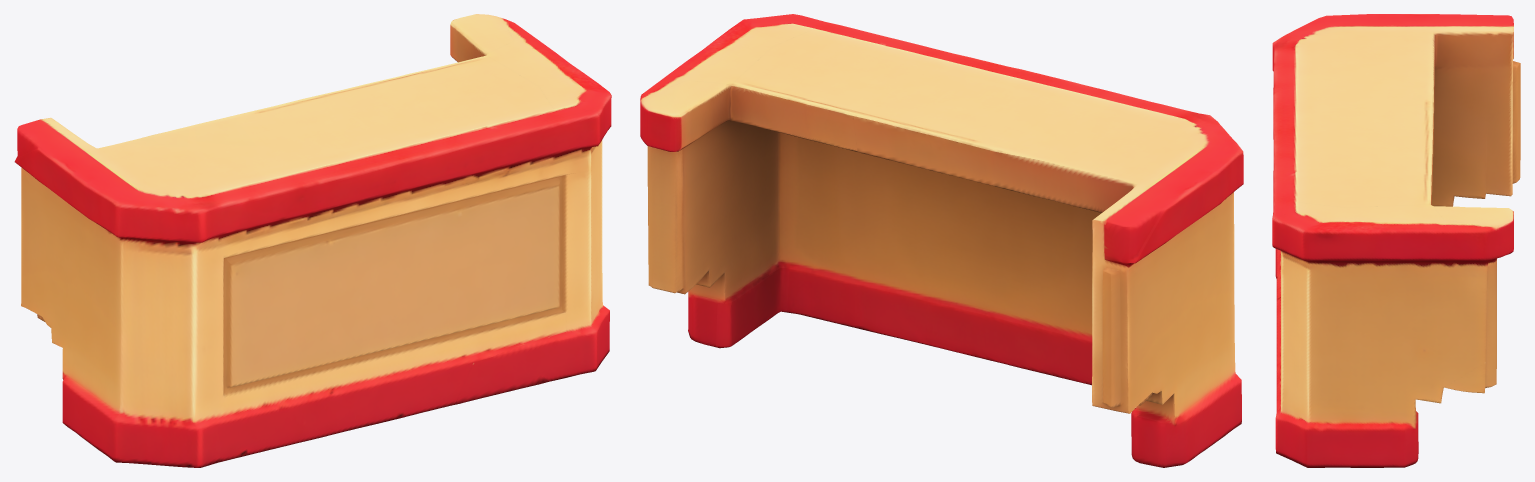
The model's file is 05-counter-v2.fbx.
3 views of the same model, side by side, from view 1: azimuth 30°, elevation 25°; view 2: azimuth 150°, elevation 25°; view 3: azimuth 270°, elevation 25° (orthographic). The views are drawn at different scales.
Parts seen in each view (by area): view 1: model; view 2: model; view 3: model.
Part boxes in pixels (x1,y1,x2,y2): model: [14, 14, 611, 467]; model: [640, 14, 1243, 467]; model: [1272, 14, 1520, 467].
Size of the model in its own units: 190 by 97.08 by 91.21.
